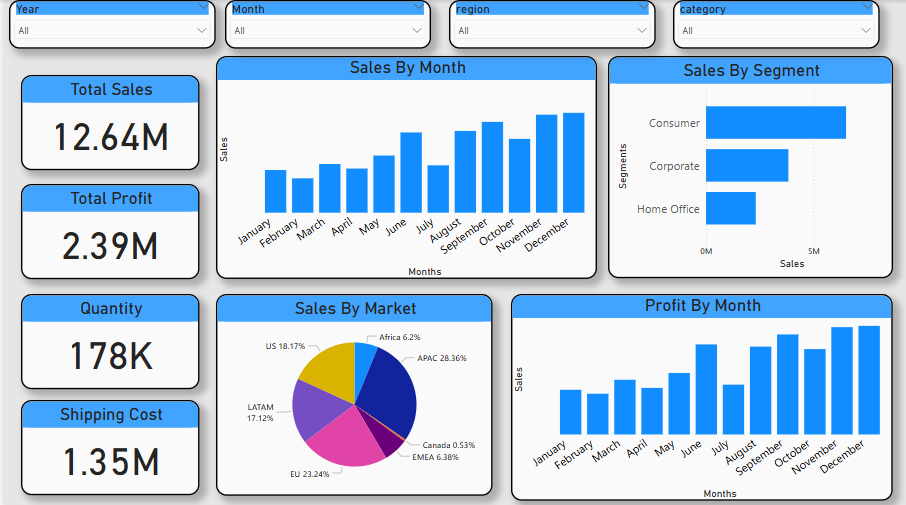

This screenshot's page, from the dashboard's own definition file:
{"tool":"powerbi","page":{"name":"Page 1","canvas":[1280,720],"ordinal":0},"visuals":[{"type":"pieChart","title":"Sales By Market","fields":{"Y":["Sum(Orders.sales)"],"Series":["Orders.market"]},"box":[299.8,416,392.4,286.3],"z":0},{"type":"card","title":"Total Sales","fields":{"Values":["Sum(Orders.sales)"]},"box":[23.6,106.1,252.6,134.7],"z":1},{"type":"card","title":"Total Profit","fields":{"Values":["Sum(Orders.profit)"]},"box":[23.6,261.1,252.6,134.7],"z":2},{"type":"card","title":"Quantity","fields":{"Values":["Sum(Orders.quantity)"]},"box":[23.6,416,252.6,134.7],"z":3},{"type":"card","title":"Shipping Cost","fields":{"Values":["Sum(Orders.shipping_cost)"]},"box":[23.6,567.6,252.6,134.7],"z":4},{"type":"clusteredBarChart","title":"Sales By Segment","fields":{"Y":["Sum(Orders.sales)"],"Category":["Orders.segment"]},"box":[856.1,79.4,403.9,314.6],"z":5},{"type":"columnChart","title":"Sales By Month","fields":{"Category":["Orders.order_date.Variation.Date Hierarchy.Month"],"Y":["Sum(Orders.sales)"]},"box":[300.5,79.4,540,316.1],"z":6},{"type":"columnChart","title":"Profit By Month","fields":{"Category":["Orders.order_date.Variation.Date Hierarchy.Month"],"Y":["Sum(Orders.profit)"]},"box":[719.2,416,540.6,293.1],"z":7},{"type":"slicer","fields":{"Values":["Orders.ship_date.Variation.Date Hierarchy.Year"]},"box":[6.7,0,293.1,69.1],"z":8},{"type":"slicer","fields":{"Values":["Orders.ship_date.Variation.Date Hierarchy.Month"]},"box":[313.2,0,292,69.4],"z":9},{"type":"slicer","fields":{"Values":["Orders.region"]},"box":[630.7,0,293.4,69.4],"z":10},{"type":"slicer","fields":{"Values":["Orders.category"]},"box":[948.2,0,293.4,69.4],"z":11}]}

Visuals, with their boxes in screenshot pixels (x1, y1, x2, y2), scaled from the page's 1280x720 canvas onto the 906x505 screenshot:
"Sales By Market" pieChart: 212,292,490,493
"Total Sales" card: 17,74,195,169
"Total Profit" card: 17,183,195,278
"Quantity" card: 17,292,195,386
"Shipping Cost" card: 17,398,195,493
"Sales By Segment" clusteredBarChart: 606,56,892,276
"Sales By Month" columnChart: 213,56,595,277
"Profit By Month" columnChart: 509,292,892,497
slicer - Orders.ship_date.Variation.Date Hierarchy.Year: 5,0,212,48
slicer - Orders.ship_date.Variation.Date Hierarchy.Month: 222,0,428,49
slicer - Orders.region: 446,0,654,49
slicer - Orders.category: 671,0,879,49
